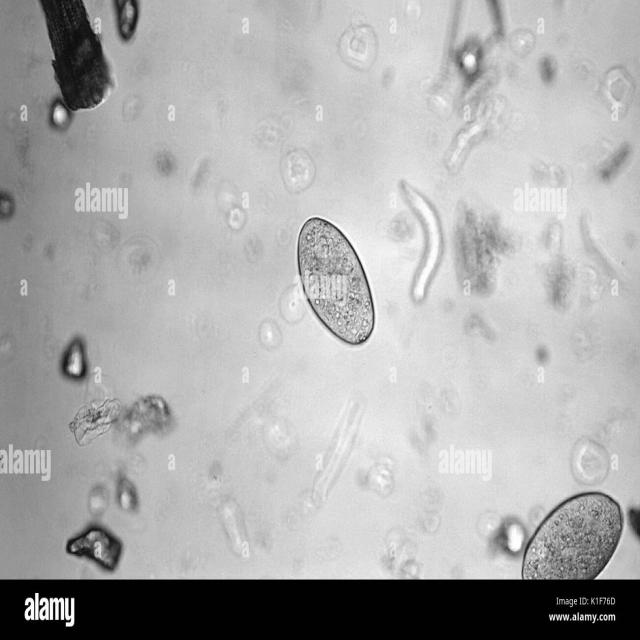Fasciola Hepatica: (293, 212, 377, 350)
